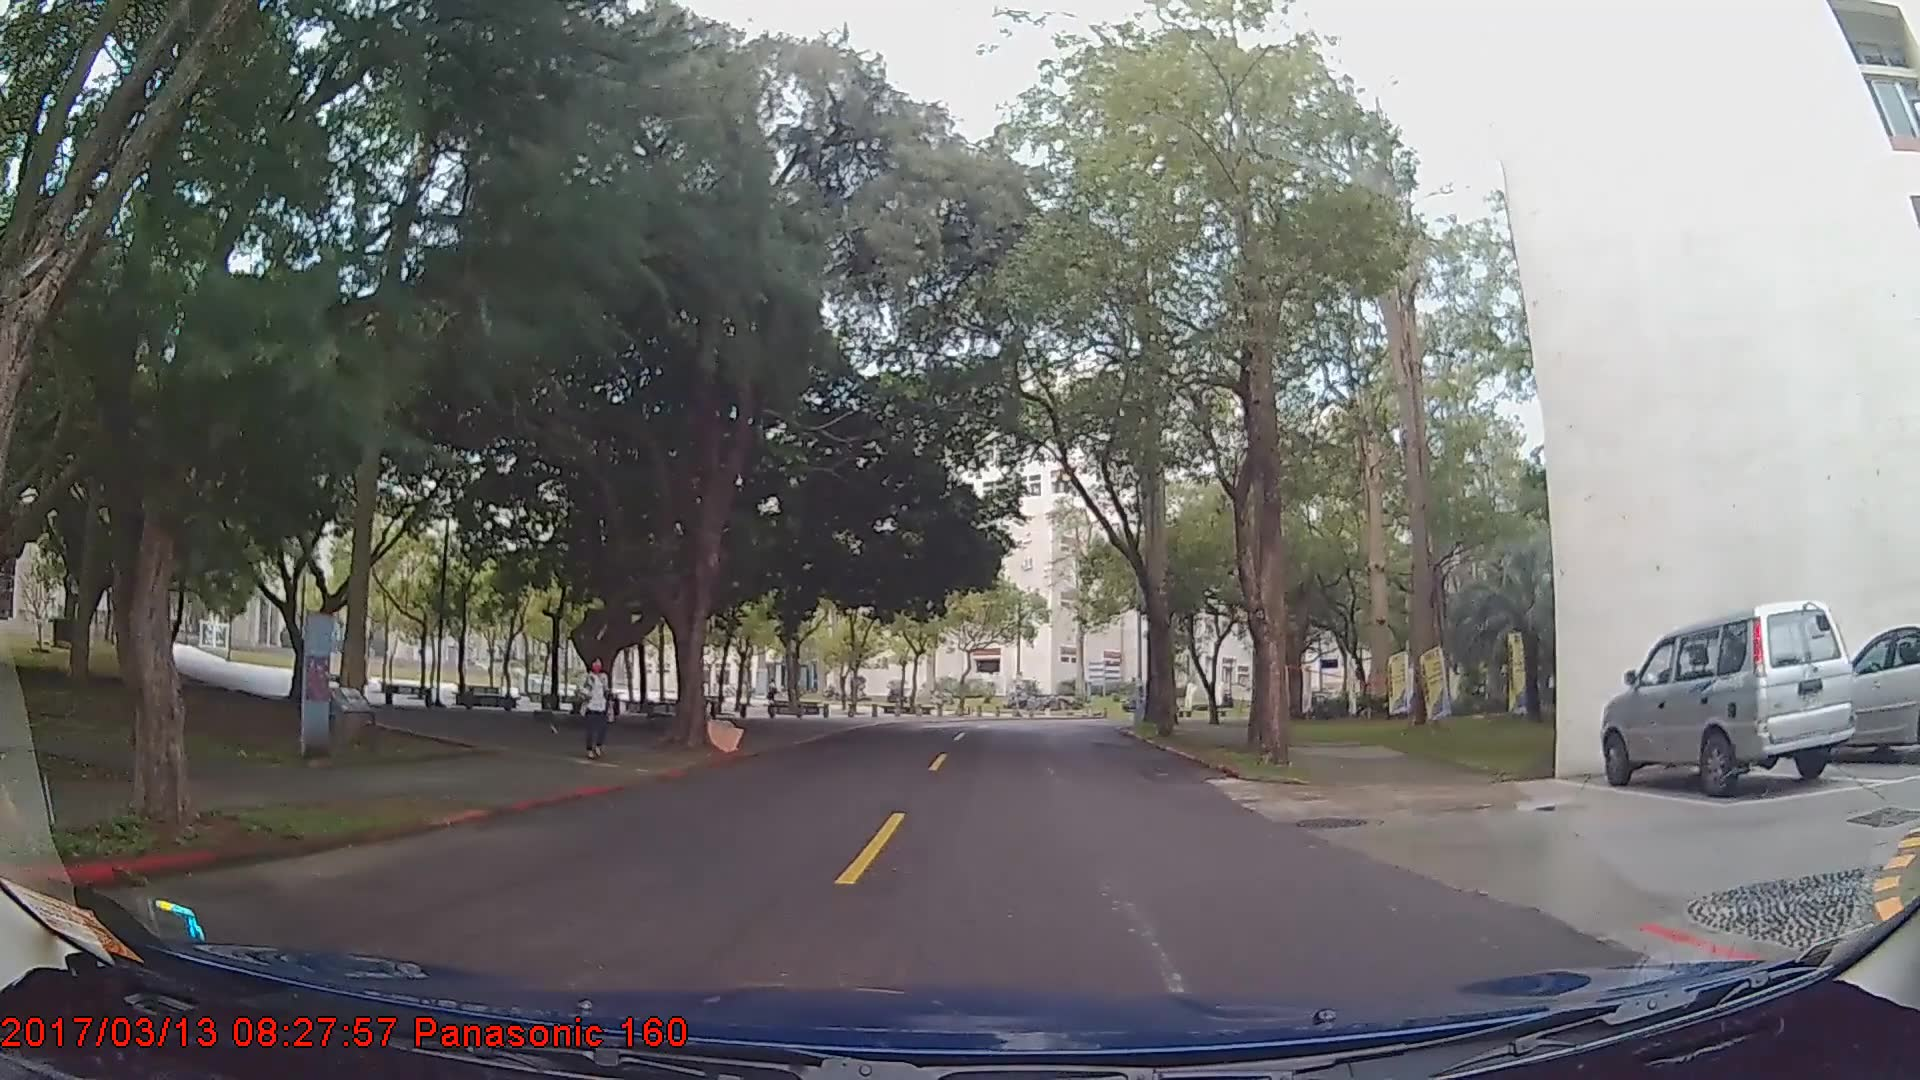pedestrian: (578, 658, 619, 760)
vehicle: (1600, 596, 1854, 792)
